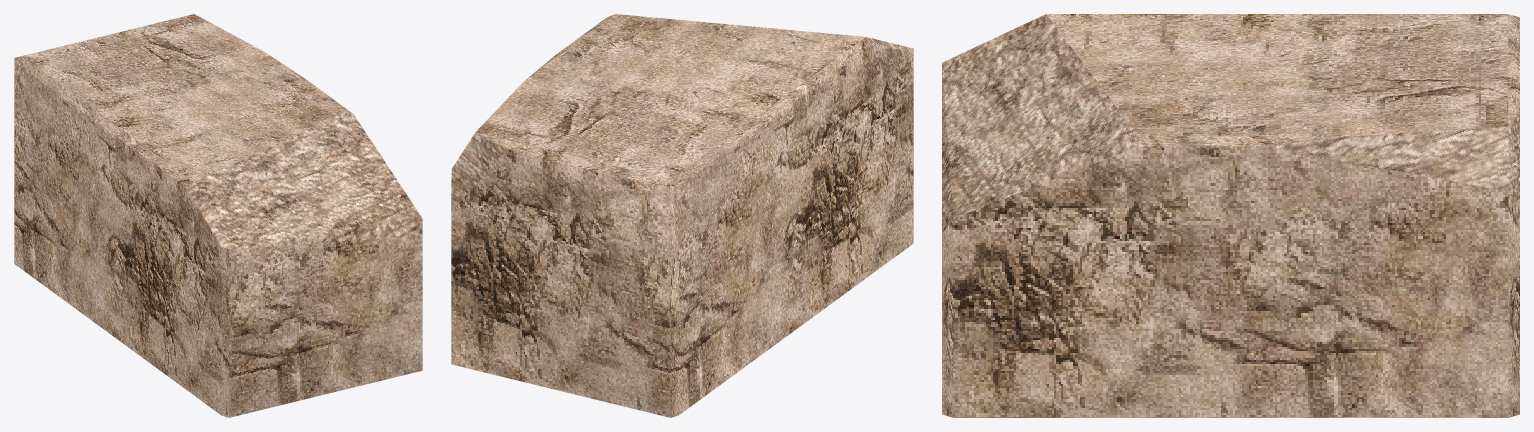
Rendered from stage-dese-p7-11.glb.
3 views of the same model, side by side, from view 1: azimuth 30°, elevation 25°; view 2: azimuth 150°, elevation 25°; view 3: azimuth 270°, elevation 25° (orthographic). The views are drawn at different scales.
Size of the model in its own units: 1.45 by 1.45 by 2.69.
Materials: 2 (2 with a texture image).
